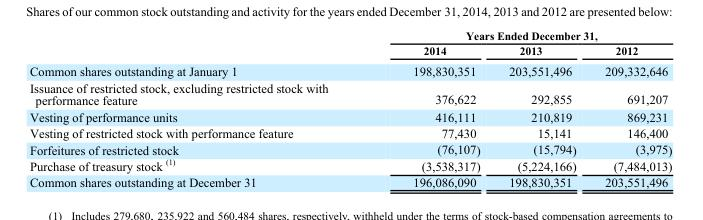table: (28, 28, 671, 189)
table column: (28, 28, 369, 189), (369, 28, 493, 189), (493, 28, 589, 189), (589, 28, 671, 189)
table column header: (28, 28, 671, 60)
table row: (28, 79, 671, 108), (28, 60, 671, 79), (28, 42, 671, 60), (28, 124, 671, 141), (28, 156, 671, 173), (28, 108, 671, 124), (28, 173, 671, 189), (28, 141, 671, 156), (28, 28, 671, 42)
table spanning cell: (369, 28, 671, 42)
